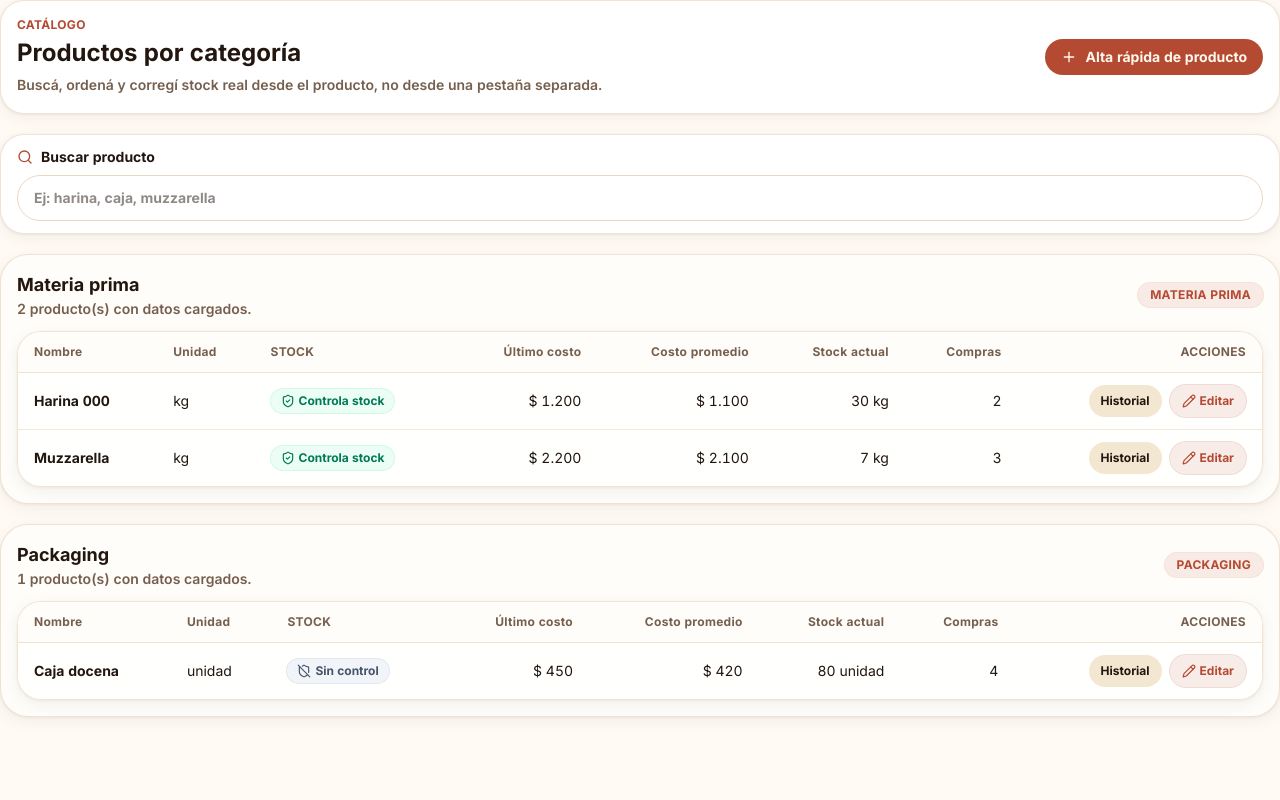
Test case: FinanceCatalog › opens product purchase history in a side sheet with supplier, quantity, and price details
This screenshot has width=1280, height=800.
Click the button with aria-label "ver historial de harina 000" at [1125, 401], box [1089, 385, 1162, 417]
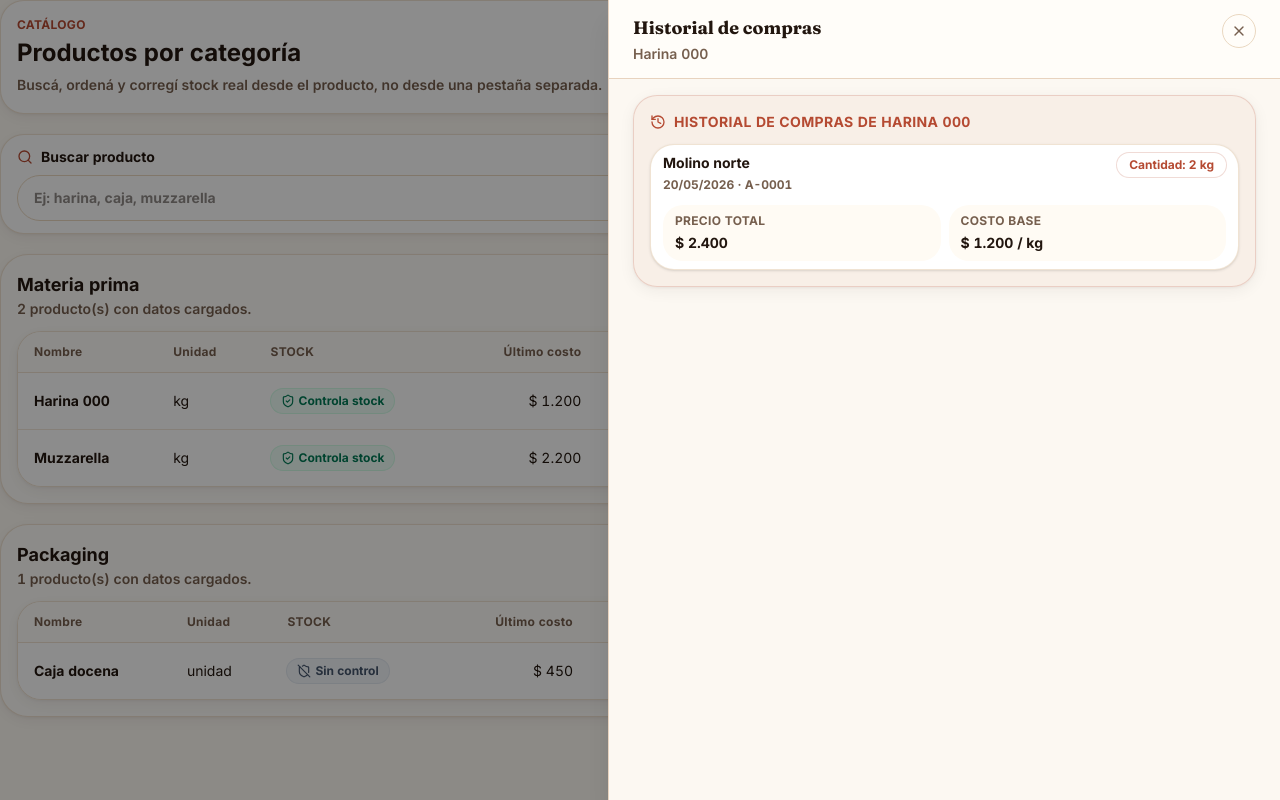
Expected: the text "Molino norte" is shown, [663, 154, 750, 171]
Expected: the text "20/05/2026 · A-0001" is shown, [663, 177, 792, 193]
Expected: the text "Cantidad: 2 kg" is shown, [1117, 153, 1226, 177]
Click the button named "cerrar historial de compras" at [1239, 31], box [1222, 14, 1256, 48]
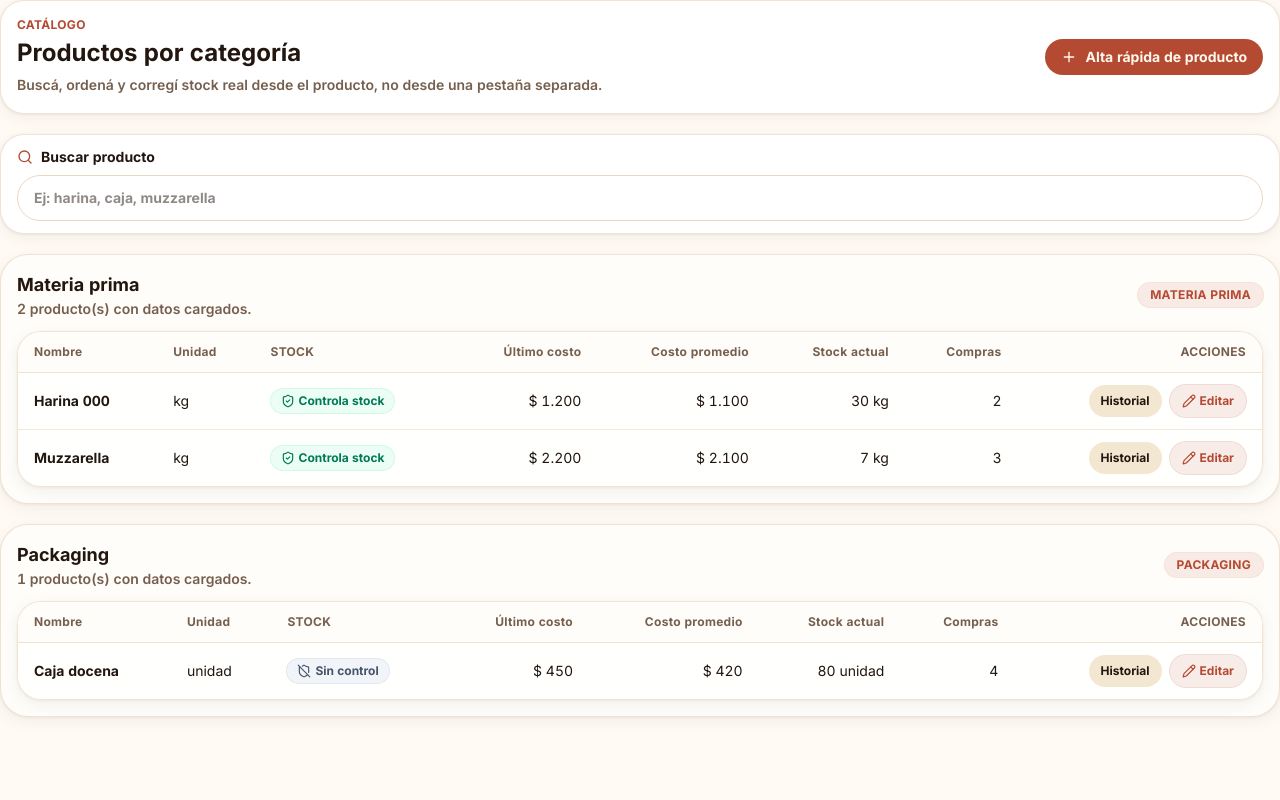
Expected: the heading "Historial de compras" is gone
